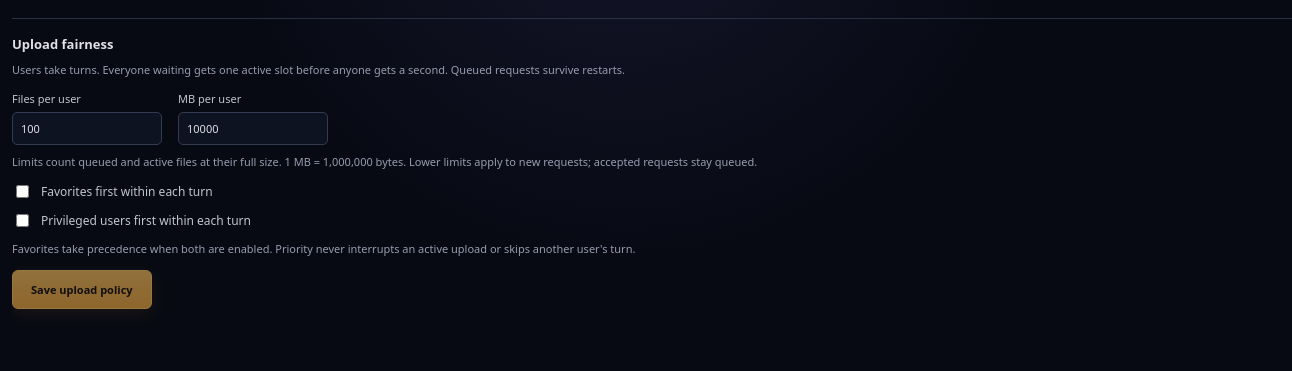
Test case: Upload policy › keeps the draft and exposes save failures for retry
Replace the text in the number field labelled "Files per user" with "40" at coordinates (87, 128), box x1=12 y1=112 x2=162 y2=145
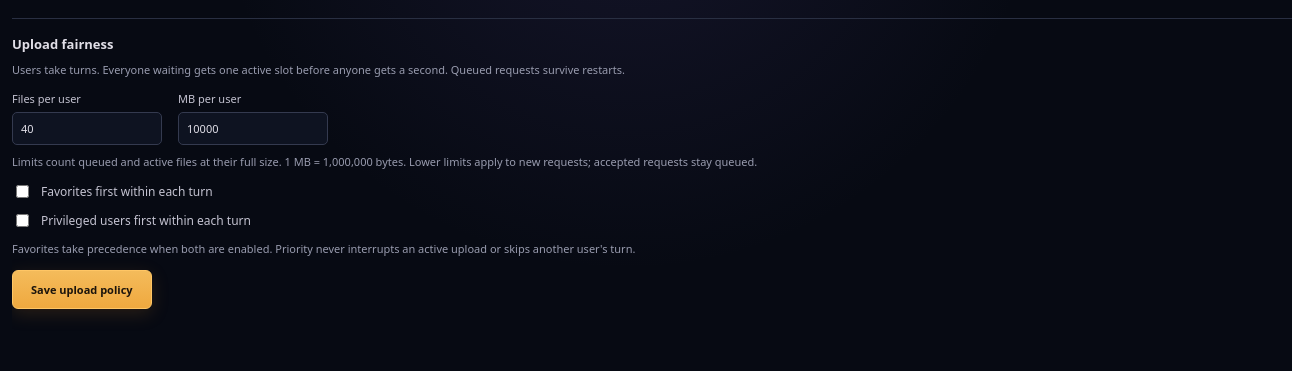
Click the button "Save upload policy".
click(82, 289)  # box x1=12 y1=270 x2=152 y2=309
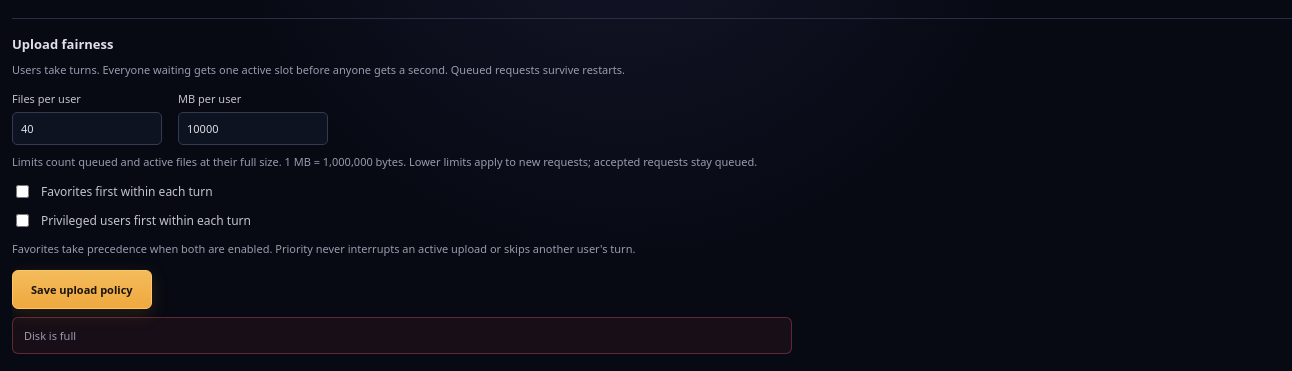
Now the button "Save upload policy" is enabled, box x1=12 y1=270 x2=152 y2=309
Now the message reads "Disk is full", box x1=24 y1=328 x2=76 y2=343
